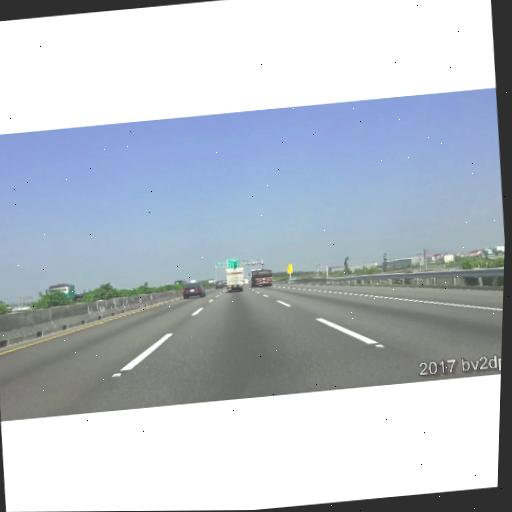Car: (225, 267, 245, 292), (249, 268, 273, 288), (182, 281, 207, 300), (214, 279, 224, 288)
